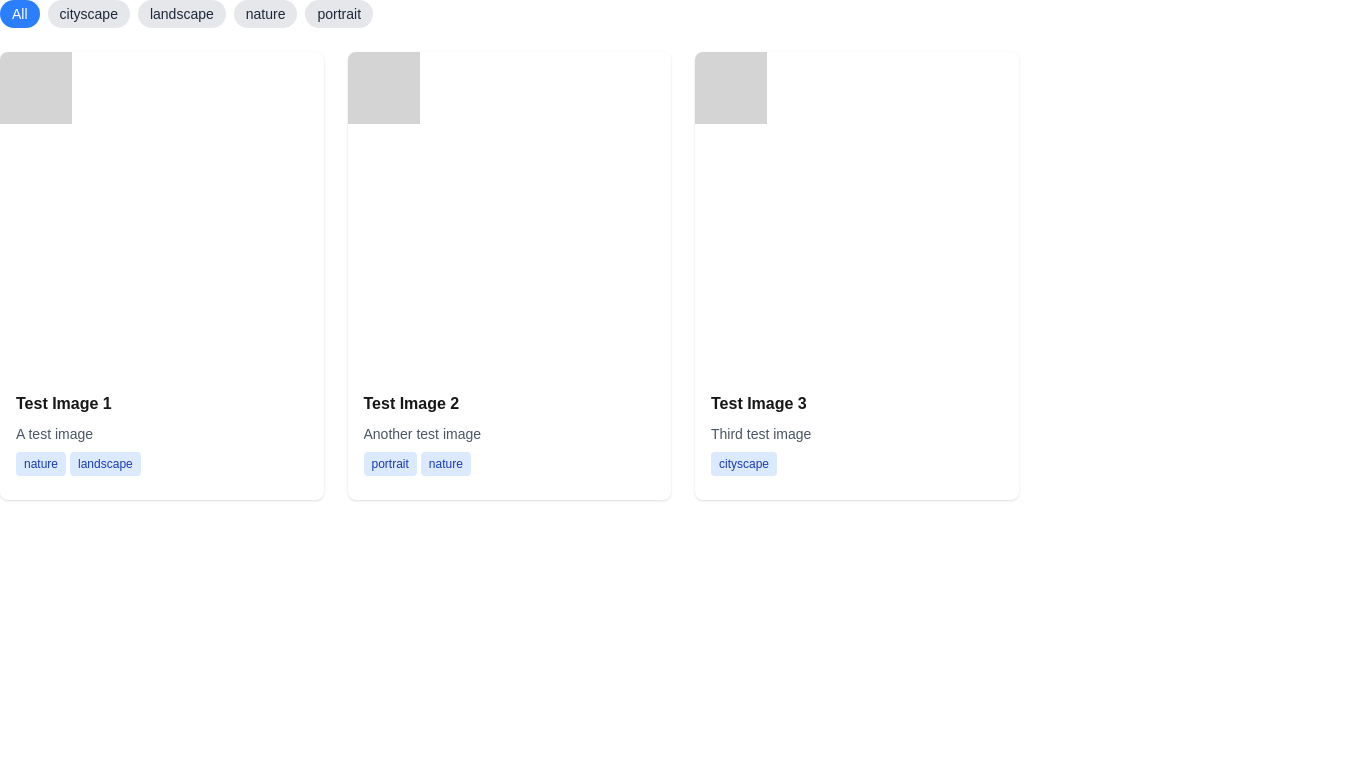
Scenario: ImageGrid › Image Viewer Modal Integration › passes filtered images to ImageViewer
Expected: the heading "Test Image 1" is shown, [16,394,112,412]
Filter by 'nature' tag first using data-testid
Click the button with test id "image-grid-tag-filter-nature".
click(266, 14)  # box [234,0,298,28]
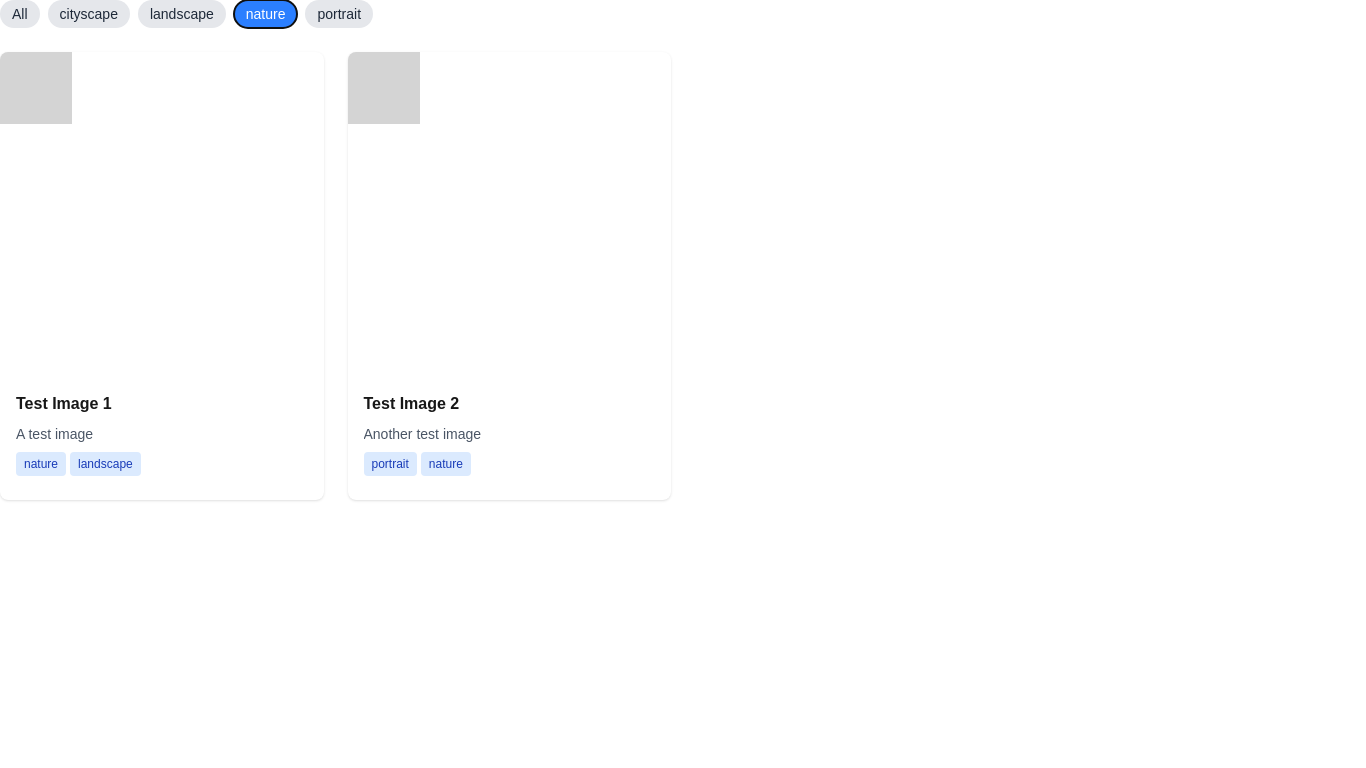
Open modal on filtered image
Click the heading "Test Image 1".
click(64, 403)  # box [16,394,112,412]
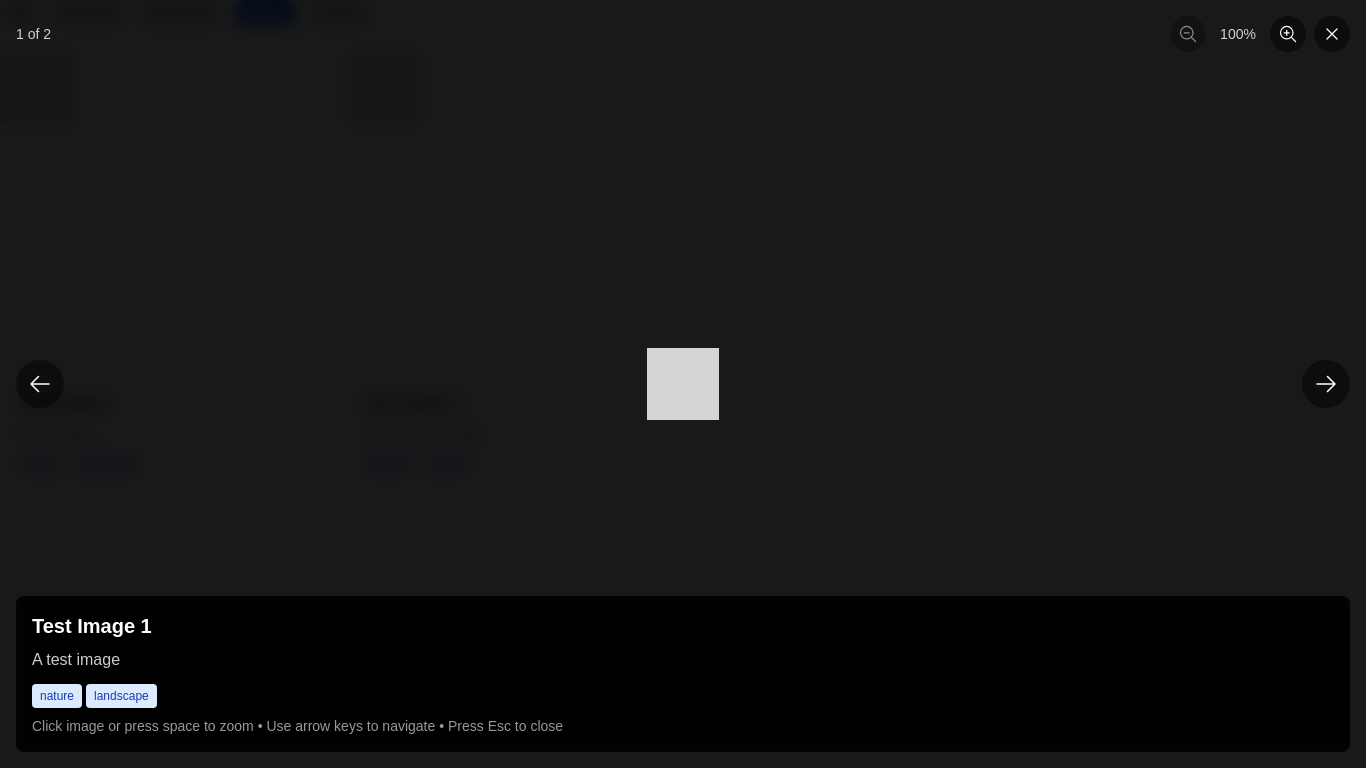
Now the dialog with test id "image-viewer-modal" is shown
